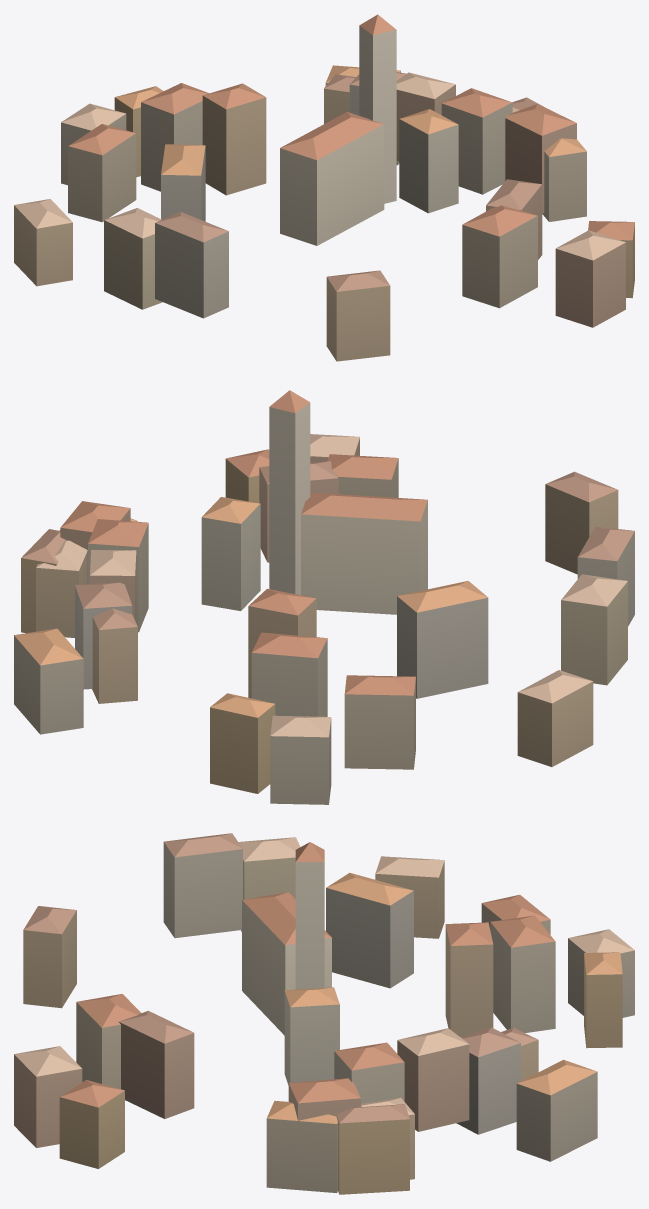
File: SM_BM_BVV_Village_4.glb
The picture shows the model from 3 angles, top to bottom: view 1: azimuth 30°, elevation 25°; view 2: azimuth 150°, elevation 25°; view 3: azimuth 270°, elevation 25°; orthographic projection. The views are drawn at different scales.
Visible parts, largest first — view 1: SM_BM_BVV_Village_4; view 2: SM_BM_BVV_Village_4; view 3: SM_BM_BVV_Village_4.
Boxes of the visible parts, bbox=[...] form: SM_BM_BVV_Village_4: bbox=[14, 14, 634, 361]; SM_BM_BVV_Village_4: bbox=[14, 390, 634, 804]; SM_BM_BVV_Village_4: bbox=[14, 833, 634, 1194].
Size of the model in its own units: 163 by 71.21 by 161.
